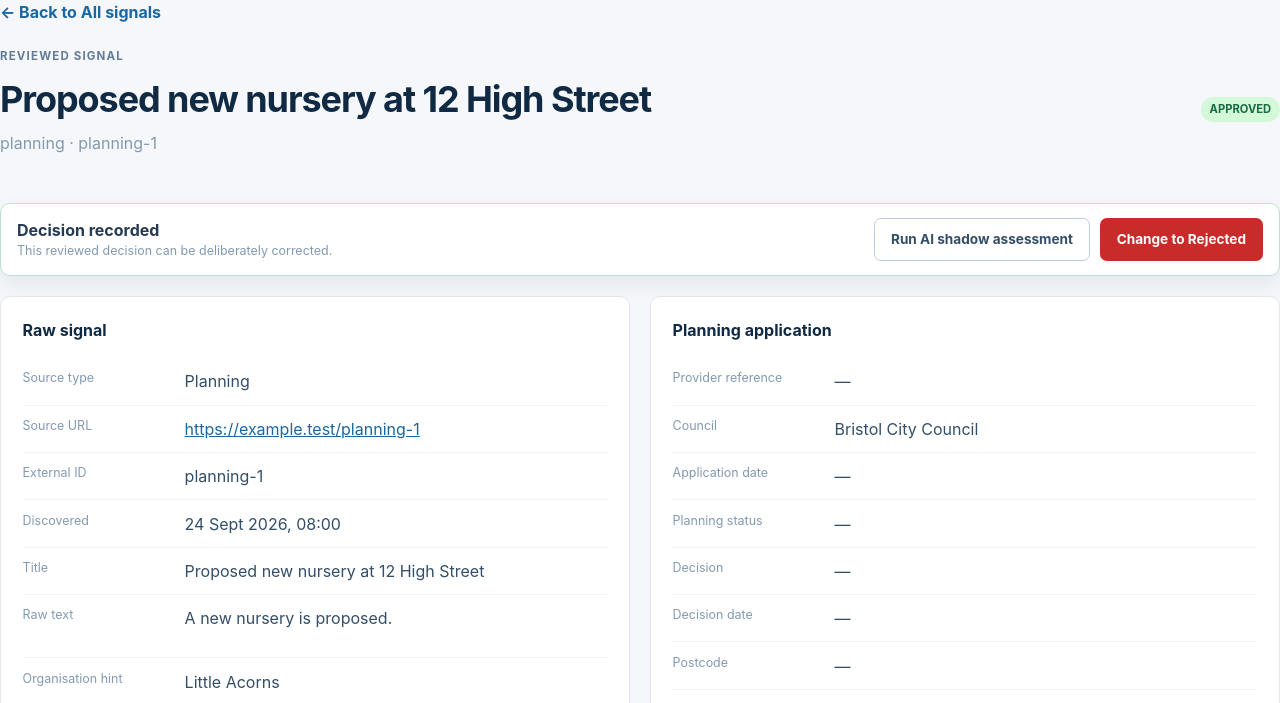
Test: admin frontend › allows shadow assessment from reviewed history without changing the human decision
Check: the text "Decision recorded" is shown, box top-left (17, 220), bottom-right (159, 240)
Check: the text "APPROVED" is shown, box top-left (1201, 97), bottom-right (1279, 122)
Click the button "Run AI shadow assessment": (982, 239) top-left (874, 218), bottom-right (1090, 261)
(page scrolled)
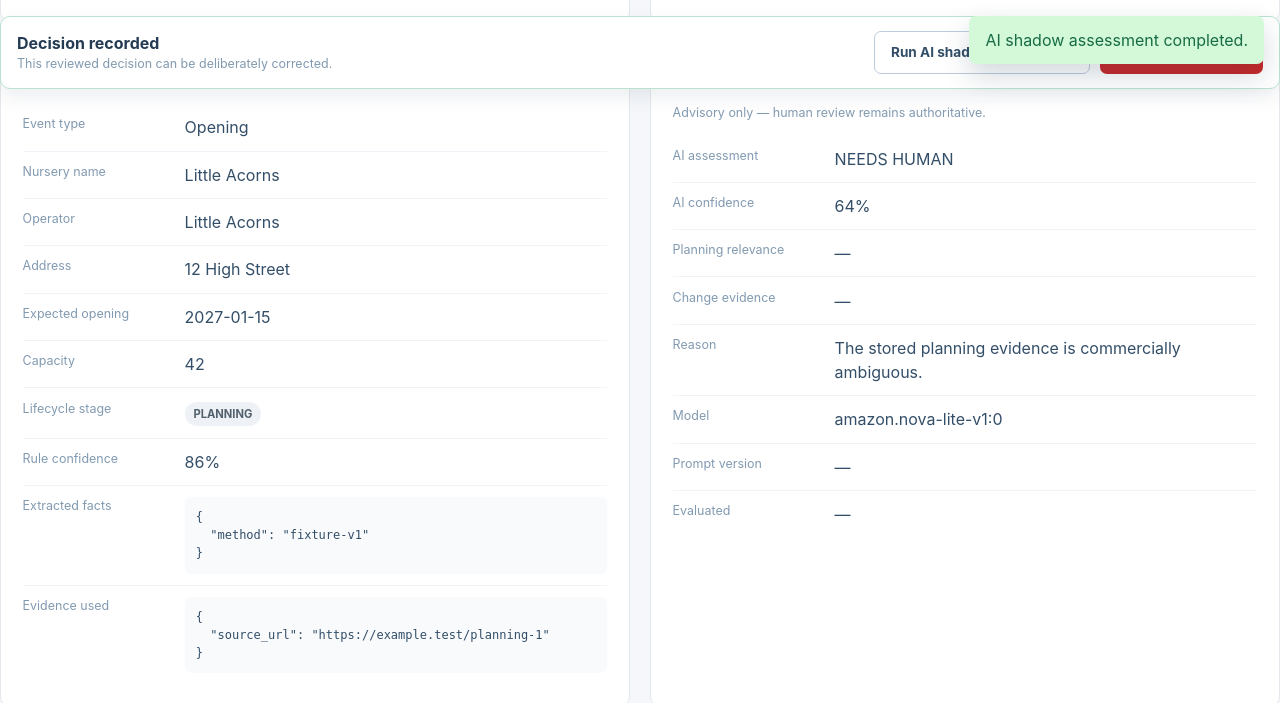
Check: the message reads "AI shadow assessment completed.", box top-left (985, 30), bottom-right (1248, 50)
Check: the text "The stored planning evidence is commercially ambiguous." is shown, box top-left (835, 338), bottom-right (1181, 382)
